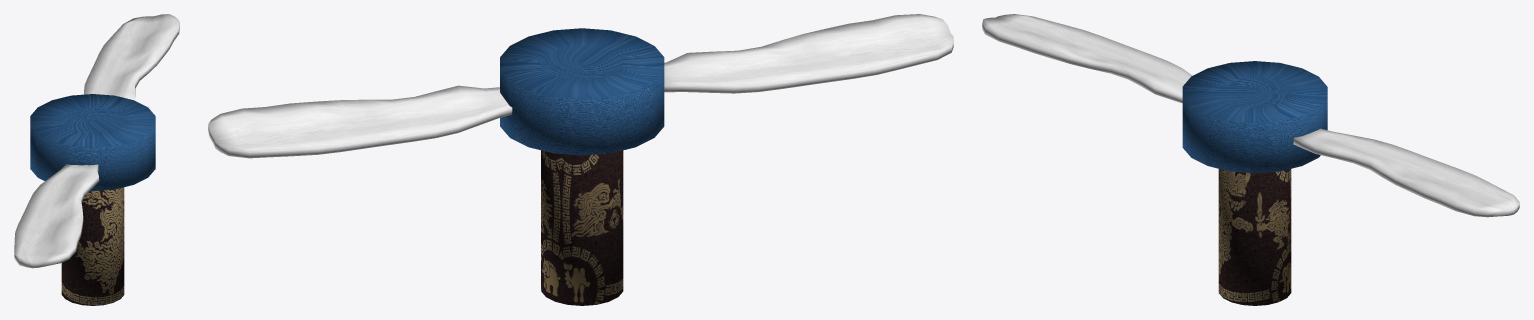
File: HeliceGuardian.obj
3 views of the same model, side by side, from view 1: azimuth 30°, elevation 25°; view 2: azimuth 150°, elevation 25°; view 3: azimuth 270°, elevation 25° (orthographic). The views are drawn at different scales.
Visible parts, largest first — view 1: Cylinder013, Cylinder012, Box012, Box011; view 2: Cylinder013, Box011, Box012, Cylinder012; view 3: Cylinder013, Cylinder012, Box011, Box012.
Boxes of the visible parts, x1,y1,x2,y2 form: Cylinder013: (30,94,155,190); Cylinder012: (61,187,124,305); Box012: (14,164,99,268); Box011: (84,14,179,100); Cylinder013: (500,28,664,155); Box011: (208,85,512,158); Box012: (664,14,953,93); Cylinder012: (541,150,623,305); Cylinder013: (1182,61,1327,173); Cylinder012: (1218,169,1291,305); Box011: (1293,128,1519,217); Box012: (982,14,1192,103).
Bounding box in the file's own units: 13.07 × 5.94 × 14.61.
